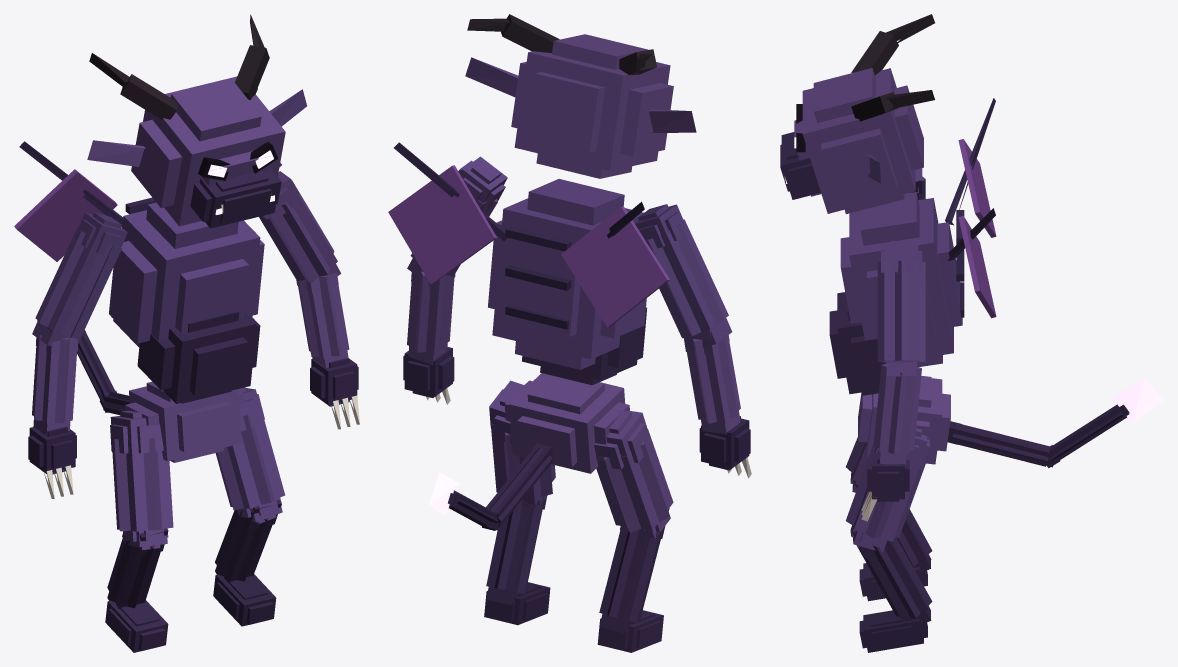
3 views of the same model, side by side, from view 1: azimuth 30°, elevation 25°; view 2: azimuth 150°, elevation 25°; view 3: azimuth 270°, elevation 25° (orthographic). The views are drawn at different scales.
Visible parts, largest first — view 1: RiftImp; view 2: RiftImp; view 3: RiftImp.
Part boxes in pixels (x1,y1,x2,y2): RiftImp: (14,14,359,652); RiftImp: (388,14,751,652); RiftImp: (780,14,1163,652).
Size of the model in its own units: 0.761 by 1.32 by 0.8083.
